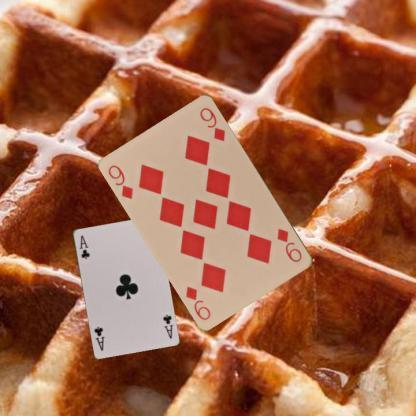9d: (106, 162, 136, 200), (274, 226, 304, 263)
Ac: (160, 311, 175, 340), (77, 232, 91, 260)
